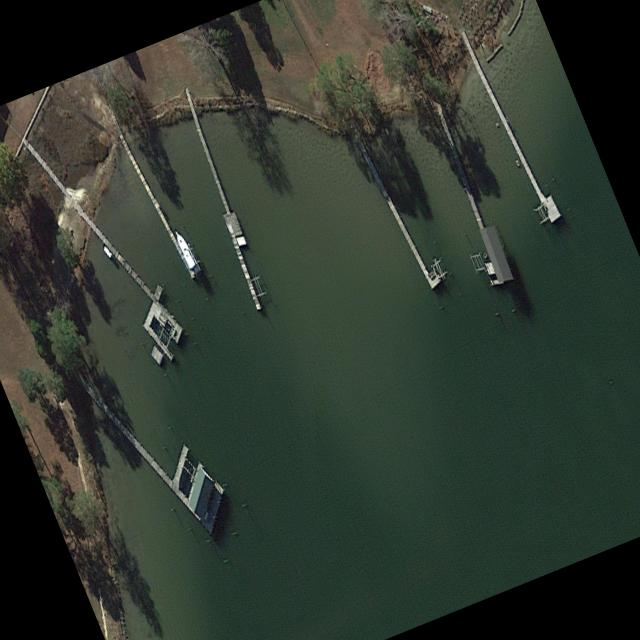ship: (170, 225, 201, 276)
